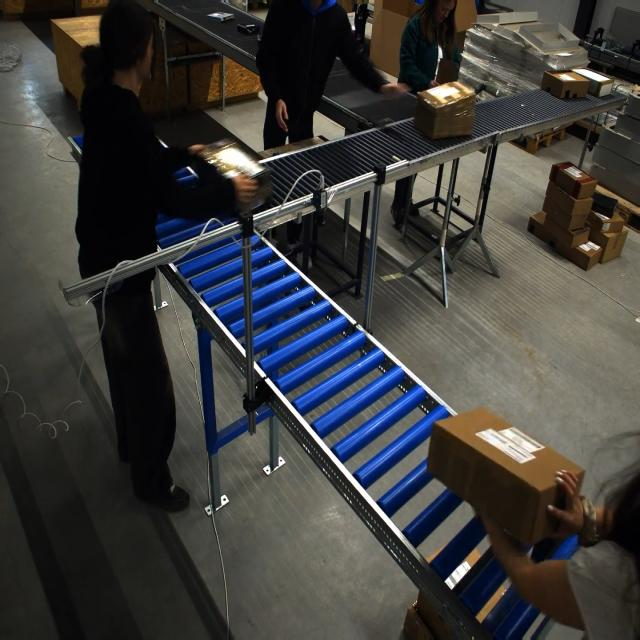box: (427, 413, 584, 543), (195, 137, 270, 211), (414, 80, 475, 140), (519, 21, 583, 55)
product: (206, 11, 234, 22), (236, 23, 259, 34)
